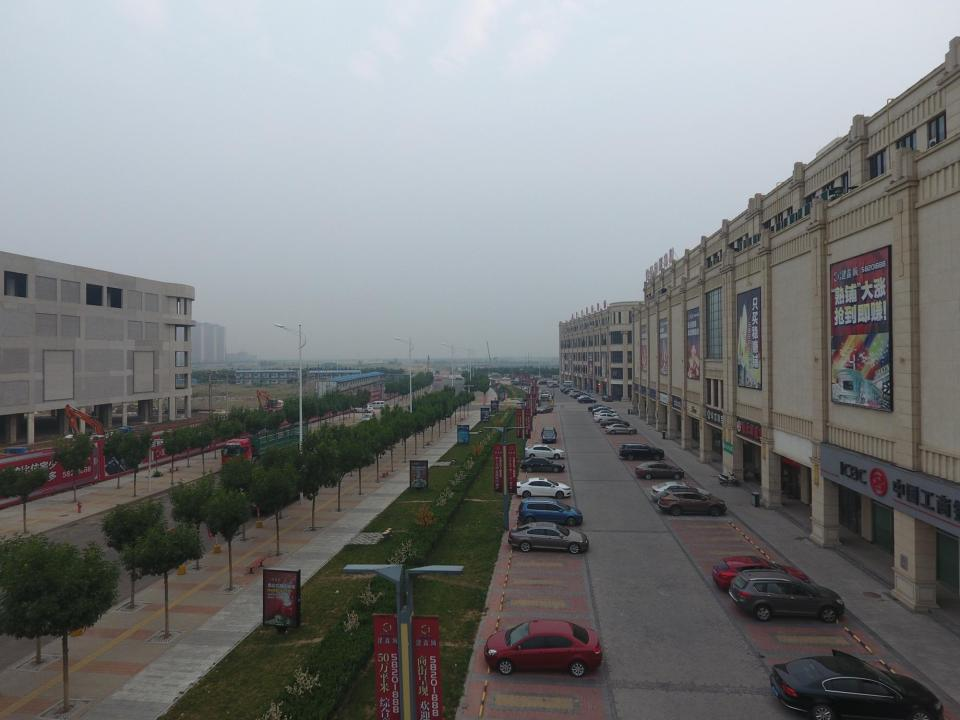car: (768, 652, 951, 720), (484, 619, 604, 676), (728, 567, 847, 624), (712, 555, 810, 589), (509, 522, 589, 557), (516, 495, 586, 528), (656, 490, 728, 514), (513, 475, 573, 499), (651, 482, 712, 504), (619, 441, 665, 463), (520, 455, 565, 475), (637, 462, 685, 480), (524, 444, 568, 459), (604, 422, 635, 435), (600, 418, 630, 428), (541, 427, 557, 442), (352, 404, 374, 413), (592, 406, 614, 415), (588, 404, 612, 412), (594, 410, 616, 418), (594, 415, 618, 422), (536, 405, 554, 413), (370, 400, 387, 408), (361, 414, 374, 422), (601, 395, 613, 401), (578, 398, 595, 402), (500, 376, 508, 380), (434, 378, 442, 381), (450, 376, 456, 380), (456, 376, 462, 380)
truck: (222, 424, 310, 470)
